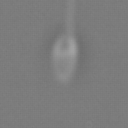normal: (57, 1, 84, 31)
